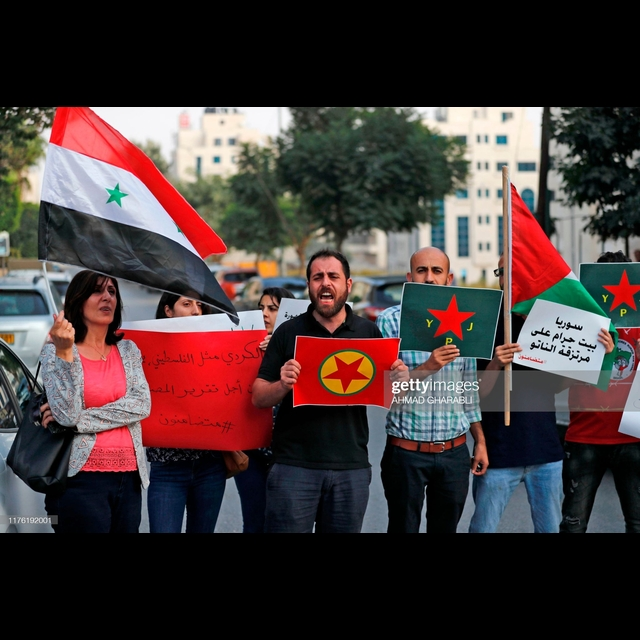PKK: (317, 347, 378, 399)
YPJ: (421, 293, 481, 348)
